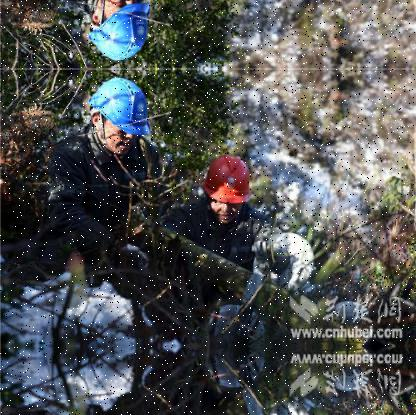helmet: (82, 71, 153, 158), (81, 0, 153, 66), (198, 150, 254, 219)
